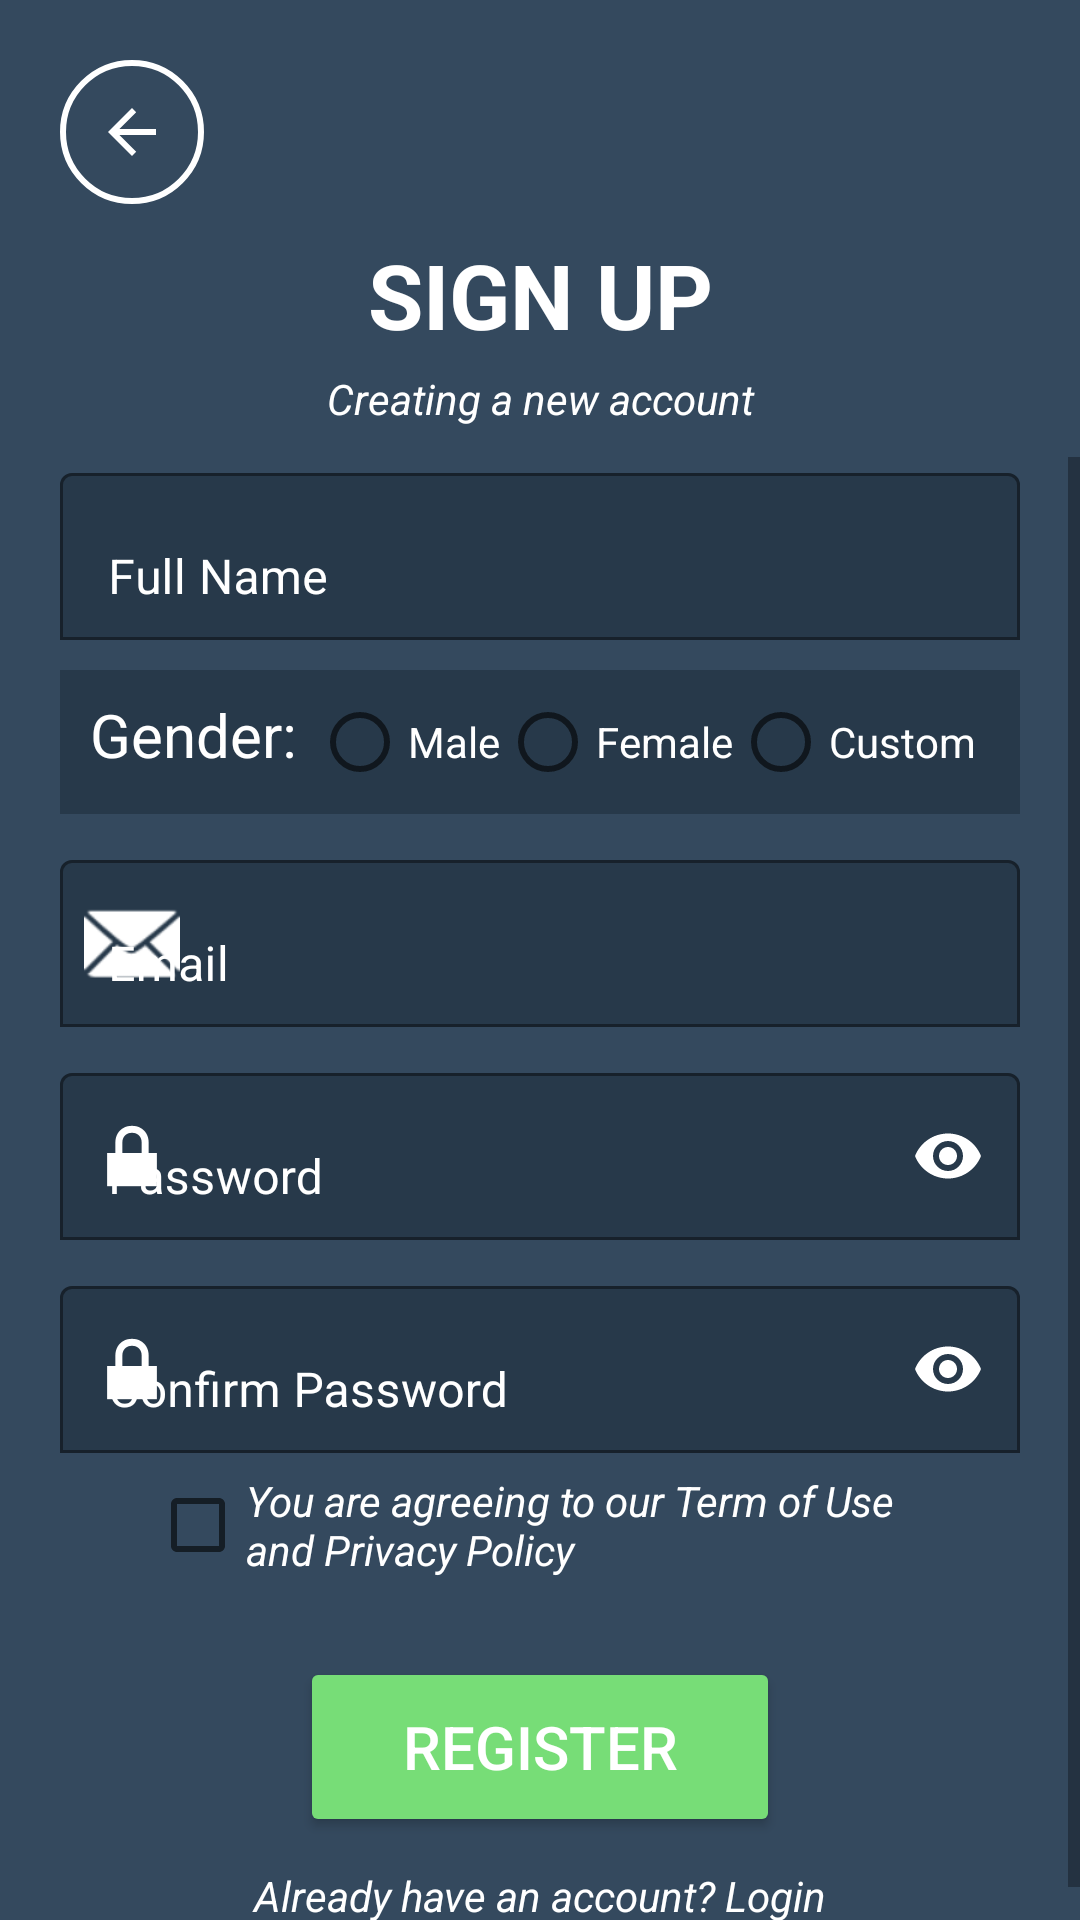

Locate icon controls on the screen. Image size 1080 x 1920, boxes as region(x1, y1, x2, y2).
Previous Button: region(60, 60, 204, 204)
